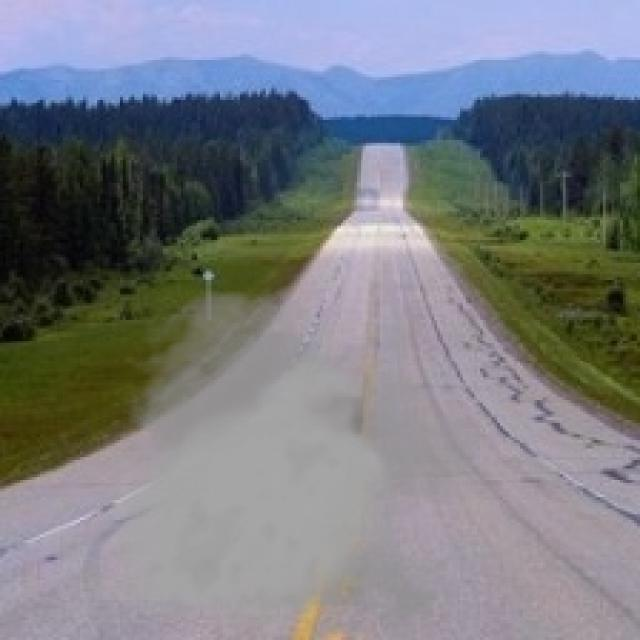smoke: (94, 286, 480, 637)
